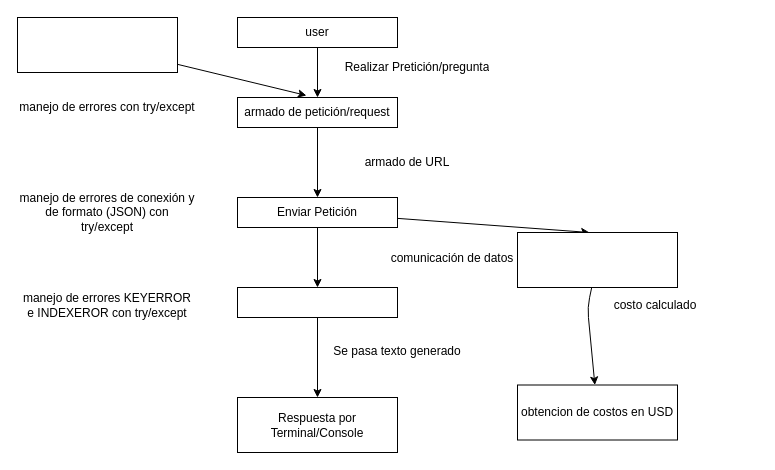
Image size: 775x470. Some labels were removed from this diagram. Each missing label, with the centre of its shape:
"calculo de Costos" goes at (x=597, y=260).
"EXTRAER TEXTO" goes at (x=317, y=302).
"variales de ambiente (GEMINI_API_KEY)" goes at (x=97, y=44).
